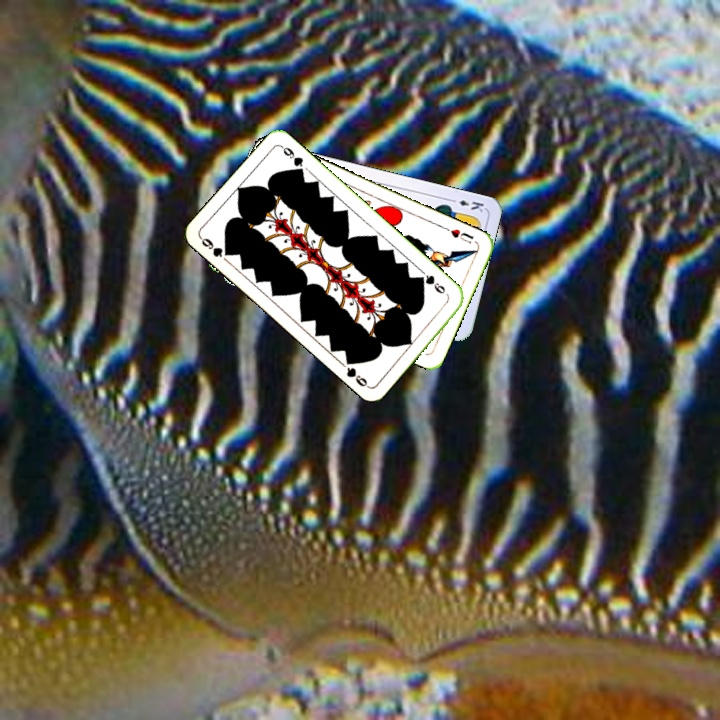EK: (446, 195, 486, 215)
G9: (196, 233, 234, 260), (415, 270, 448, 297)
HU: (446, 225, 476, 246)
